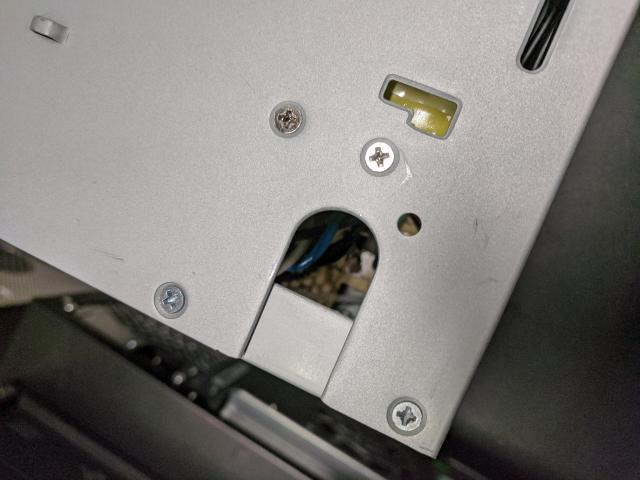CRS: (387, 396, 423, 433), (270, 102, 304, 136), (365, 142, 393, 172), (156, 286, 184, 313)
